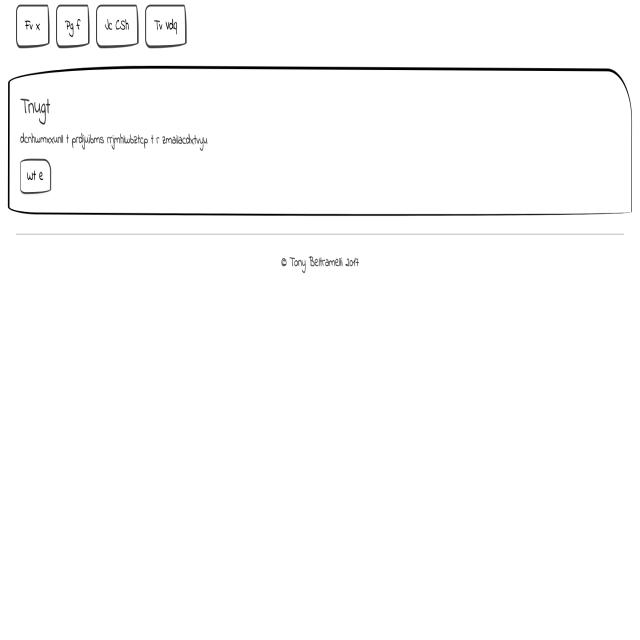Button: (19, 156, 51, 196)
Card: (8, 63, 635, 225)
Footer: (0, 230, 640, 640)
Heading 6: (19, 92, 53, 128)
Navigation Bar: (13, 1, 196, 52)
Paragraph: (17, 133, 210, 152)
